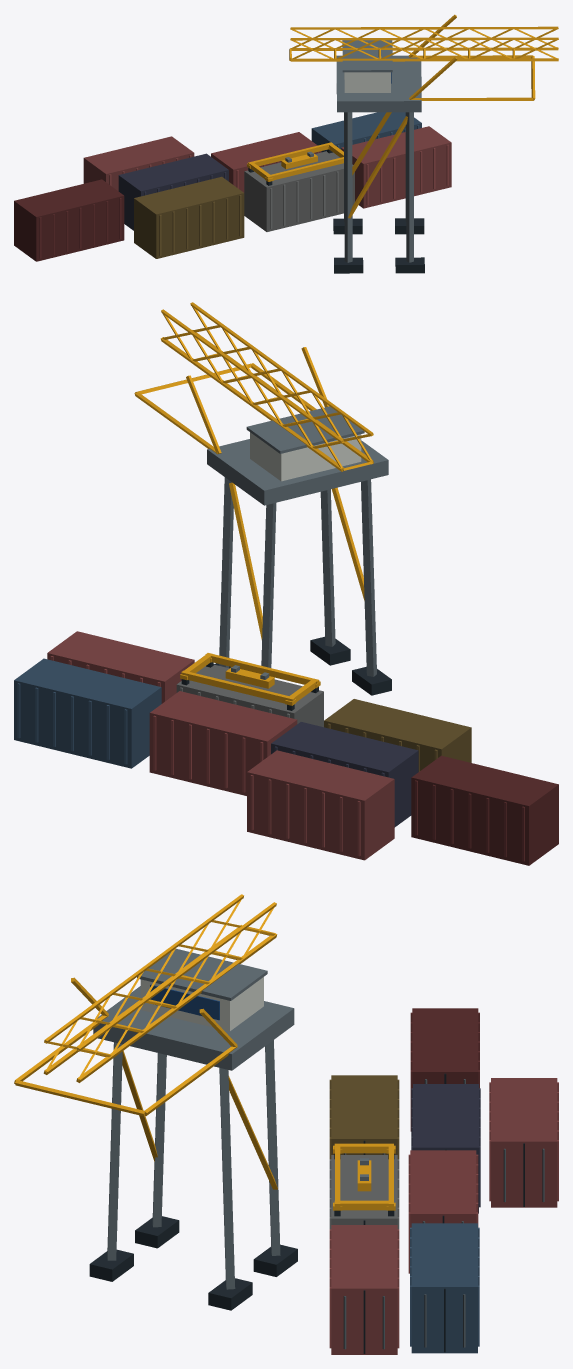
The model's file is gantry-crane-e-w-05.glb.
The picture shows the model from 3 angles, top to bottom: view 1: azimuth 30°, elevation 25°; view 2: azimuth 150°, elevation 25°; view 3: azimuth 270°, elevation 25°; orthographic projection. The views are drawn at different scales.
Visible parts, largest first — view 1: gantry-crane-e-w-05; view 2: gantry-crane-e-w-05; view 3: gantry-crane-e-w-05.
Part boxes in pixels (bbox=[...]): gantry-crane-e-w-05: bbox=[14, 14, 558, 273]; gantry-crane-e-w-05: bbox=[14, 302, 558, 865]; gantry-crane-e-w-05: bbox=[14, 894, 558, 1354].
Bounding box in the file's own units: 61.47 × 31.18 × 47.76.
